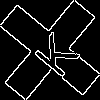K: (25, 25, 82, 80)
